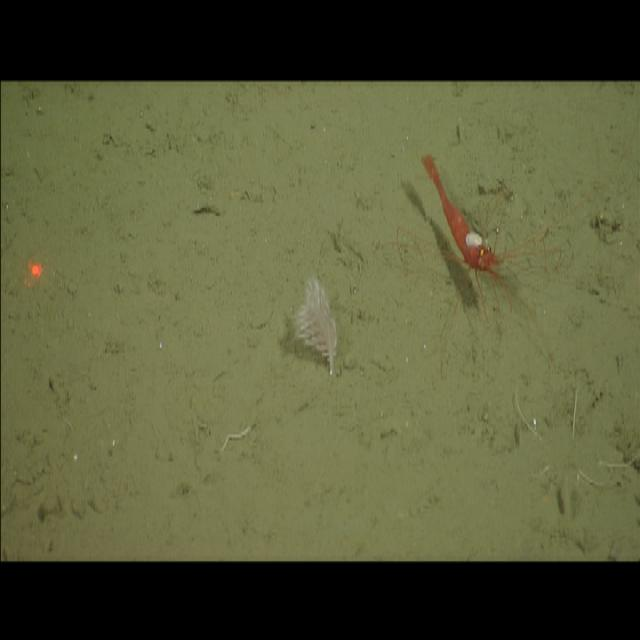Brittle Star: (509, 381, 632, 508)
Not Brittle Star: (394, 145, 570, 380), (288, 269, 343, 383)
